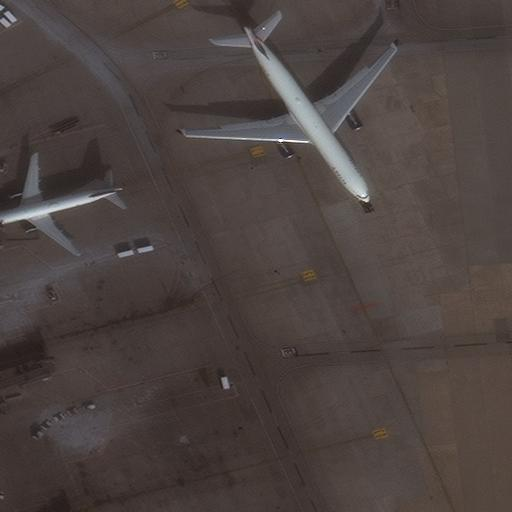Large Civil Transport: (183, 25, 399, 205)
Medium Civil Transport: (0, 155, 121, 257)
